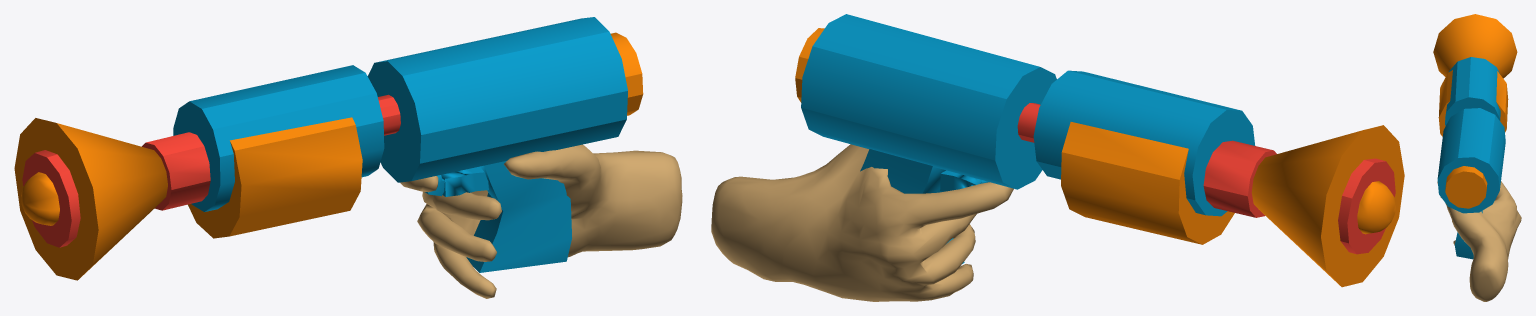
Rendered from HAND2.fbx.
3 renders of one model, left to right at view 1: azimuth 30°, elevation 25°; view 2: azimuth 150°, elevation 25°; view 3: azimuth 270°, elevation 25°, orthographic. The views are drawn at different scales.
Parts seen in each view (by area): view 1: model, Hand.001; view 2: model, Hand.001; view 3: model, Hand.001.
Part boxes in pixels (x1,y1,x2,y2): model: (14,17,643,280); Hand.001: (400,144,682,298); model: (795,14,1404,287); Hand.001: (711,144,1013,301); model: (1433,14,1517,259); Hand.001: (1437,181,1521,301).
Size of the model in its own units: 1022 by 407 by 236.
